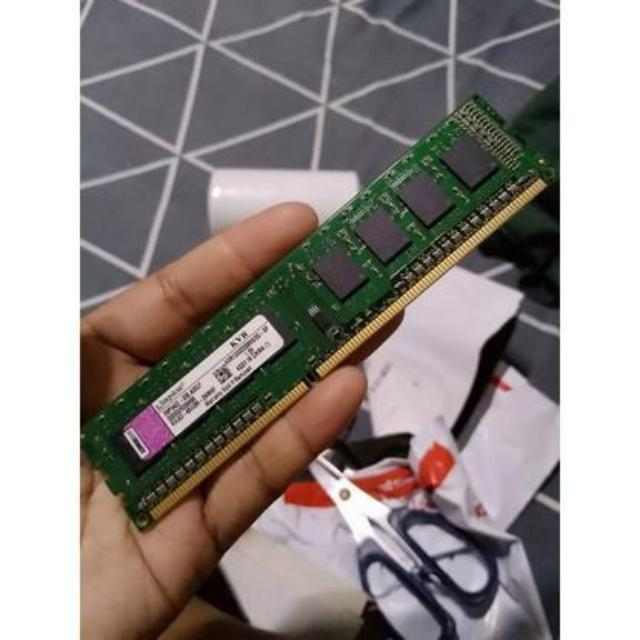RAM: (80, 95, 558, 537)
